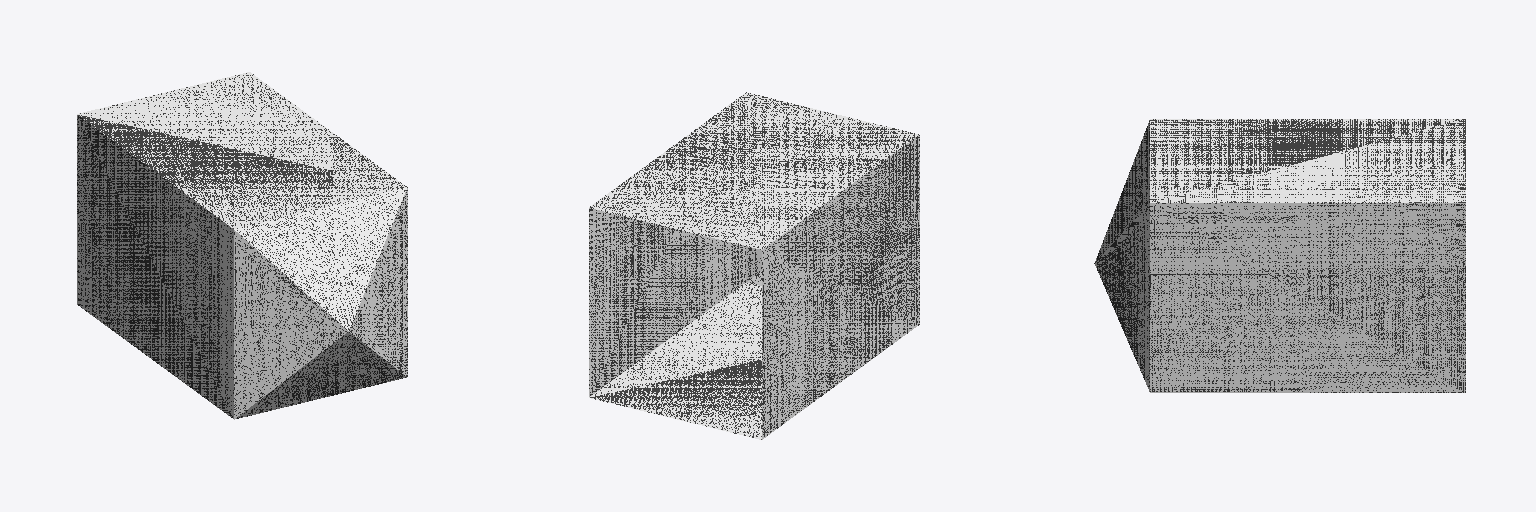
Rendered from original-14.obj.
3 views of the same model, side by side, from view 1: azimuth 30°, elevation 25°; view 2: azimuth 150°, elevation 25°; view 3: azimuth 270°, elevation 25° (orthographic).
Visible parts, largest first — view 1: 3dw.228b41e91b3eac5e6eed87081bea555c/Model/Group1/mesh1/mesh1-ge; view 2: 3dw.228b41e91b3eac5e6eed87081bea555c/Model/Group1/mesh1/mesh1-ge; view 3: 3dw.228b41e91b3eac5e6eed87081bea555c/Model/Group1/mesh1/mesh1-ge.
Boxes of the visible parts, <box> form: 3dw.228b41e91b3eac5e6eed87081bea555c/Model/Group1/mesh1/mesh1-ge: <box>77,72,407,419</box>; 3dw.228b41e91b3eac5e6eed87081bea555c/Model/Group1/mesh1/mesh1-ge: <box>589,92,919,439</box>; 3dw.228b41e91b3eac5e6eed87081bea555c/Model/Group1/mesh1/mesh1-ge: <box>1094,119,1465,392</box>.
Bounding box in the file's own units: 0.2399 × 0.2516 × 0.4449.